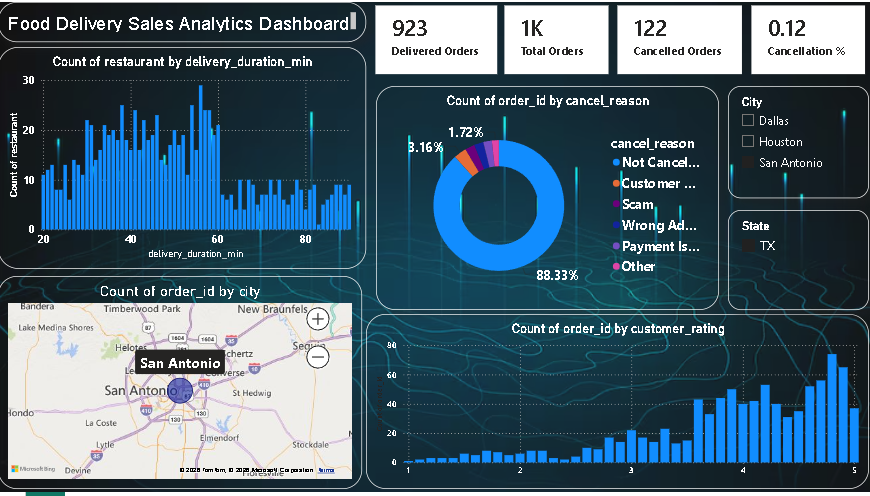

This screenshot's page, from the dashboard's own definition file:
{"tool":"powerbi","page":{"name":"Page 1","canvas":[1280,720],"ordinal":0},"visuals":[{"type":"textbox","box":[0,0,540.9,58.8],"z":0},{"type":"cardVisual","fields":{"Data":["food_delivery food_delivery_orders.Total Orders"]},"box":[739.1,0,163.1,111.7],"z":1000},{"type":"cardVisual","fields":{"Data":["food_delivery food_delivery_orders.Cancellation %"]},"box":[1102,0,177.8,111.7],"z":2000},{"type":"cardVisual","fields":{"Data":["food_delivery food_delivery_orders.Cancelled Orders"]},"box":[905.1,0,194,111.7],"z":3000},{"type":"cardVisual","fields":{"Data":["food_delivery food_delivery_orders.Delivered Orders"]},"box":[549.6,0,189.6,111.7],"z":4000},{"type":"map","fields":{"Category":["food_delivery food_delivery_orders.city"],"Size":["CountNonNull(food_delivery food_delivery_orders.order_id)"]},"box":[0,402.6,534.9,313],"z":5000},{"type":"donutChart","fields":{"Category":["food_delivery food_delivery_orders.cancel_reason"],"Y":["CountNonNull(food_delivery food_delivery_orders.order_id)"]},"box":[555.4,123.4,504,329.1],"z":6000},{"type":"clusteredColumnChart","fields":{"Category":["food_delivery food_delivery_orders.customer_rating"],"Y":["CountNonNull(food_delivery food_delivery_orders.order_id)"]},"box":[540.7,458.4,739.1,257.1],"z":7000},{"type":"columnChart","fields":{"Y":["CountNonNull(food_delivery food_delivery_orders.restaurant)"],"Category":["food_delivery food_delivery_orders.delivery_duration_min"]},"box":[0,66.1,540.7,326.2],"z":8000},{"type":"slicer","fields":{"Values":["food_delivery food_delivery_orders.city"]},"box":[1072.7,123.4,207.2,164.6],"z":9000},{"type":"slicer","fields":{"Values":["food_delivery food_delivery_orders.state"]},"box":[1072.7,305.6,207.2,146.9],"z":10000}]}

Visuals, with their boxes in screenshot pixels (x1, y1, x2, y2), scaled from the page's 1280x720 canvas onto the 870x496 screenshot:
textbox: [x1=0, y1=0, x2=368, y2=41]
cardVisual - food_delivery food_delivery_orders.Total Orders: [x1=502, y1=0, x2=613, y2=77]
cardVisual - food_delivery food_delivery_orders.Cancellation %: [x1=749, y1=0, x2=869, y2=77]
cardVisual - food_delivery food_delivery_orders.Cancelled Orders: [x1=615, y1=0, x2=747, y2=77]
cardVisual - food_delivery food_delivery_orders.Delivered Orders: [x1=374, y1=0, x2=502, y2=77]
map - food_delivery food_delivery_orders.city x CountNonNull(food_delivery food_delivery_orders.order_id): [x1=0, y1=277, x2=364, y2=493]
donutChart - food_delivery food_delivery_orders.cancel_reason x CountNonNull(food_delivery food_delivery_orders.order_id): [x1=377, y1=85, x2=720, y2=312]
clusteredColumnChart - food_delivery food_delivery_orders.customer_rating x CountNonNull(food_delivery food_delivery_orders.order_id): [x1=368, y1=316, x2=869, y2=493]
columnChart - CountNonNull(food_delivery food_delivery_orders.restaurant) x food_delivery food_delivery_orders.delivery_duration_min: [x1=0, y1=46, x2=368, y2=270]
slicer - food_delivery food_delivery_orders.city: [x1=729, y1=85, x2=869, y2=198]
slicer - food_delivery food_delivery_orders.state: [x1=729, y1=211, x2=869, y2=312]
